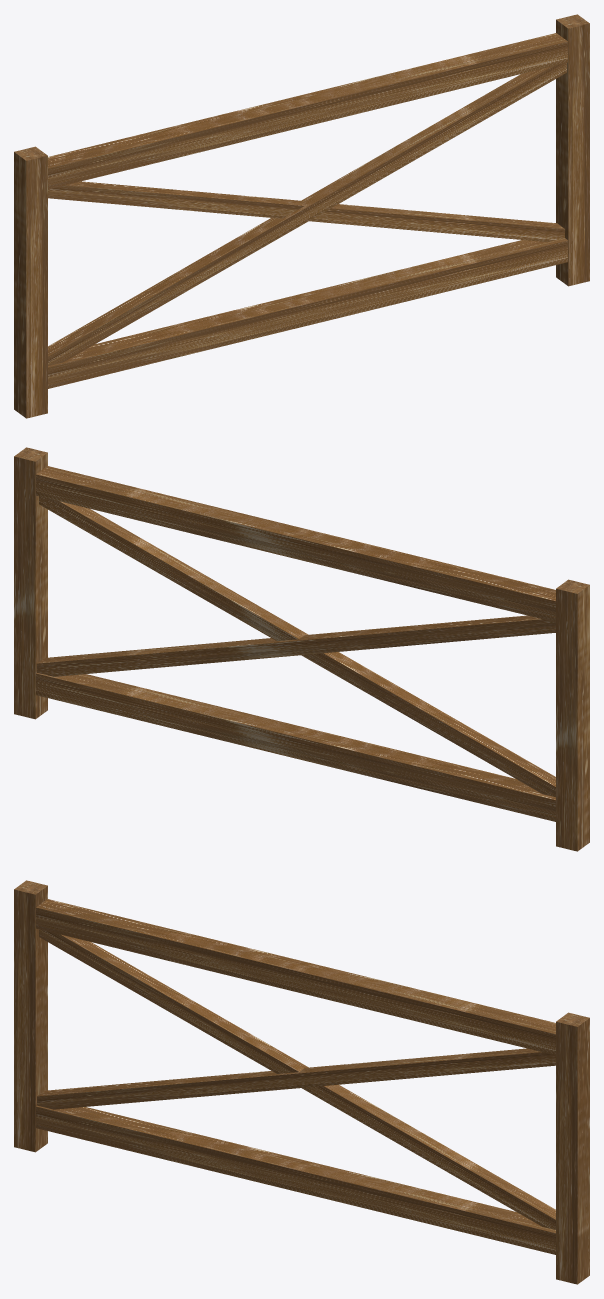
File: gate.glb
The picture shows the model from 3 angles, top to bottom: view 1: azimuth 30°, elevation 25°; view 2: azimuth 150°, elevation 25°; view 3: azimuth 330°, elevation 25°; orthographic projection.
Visible parts, largest first — view 1: gate; view 2: gate; view 3: gate.
Part boxes in pixels (<box>): gate: <box>14,14,589,418</box>; gate: <box>14,447,589,851</box>; gate: <box>14,880,589,1284</box>.
Bounding box in the file's own units: 2.08 × 0.9087 × 0.0797.
1 material, 1 textured.
